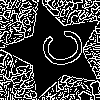C: (30, 25, 87, 74)
